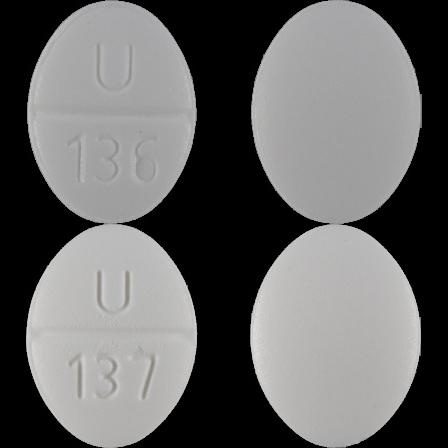29300-136: (0, 0, 224, 224)
